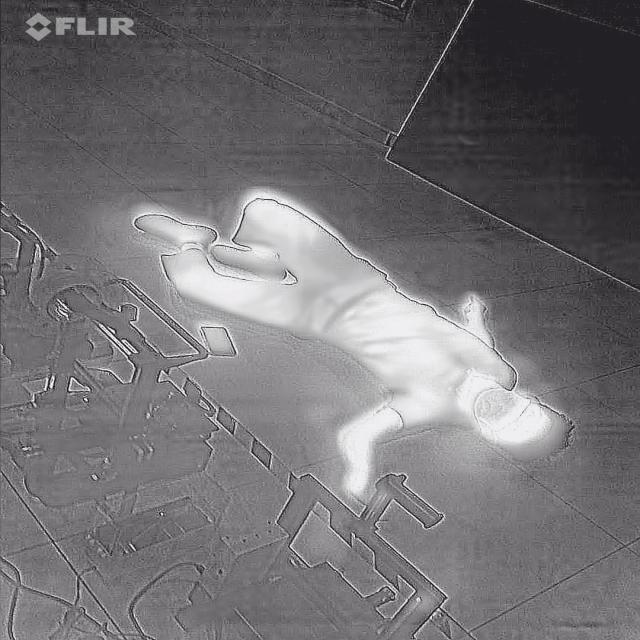Victim: (121, 186, 577, 508)
